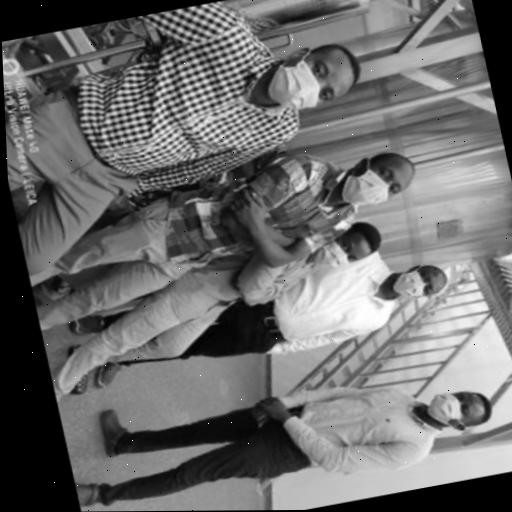mask: (261, 45, 362, 114), (332, 151, 417, 211), (311, 228, 371, 269), (425, 387, 482, 427), (389, 263, 444, 302)
